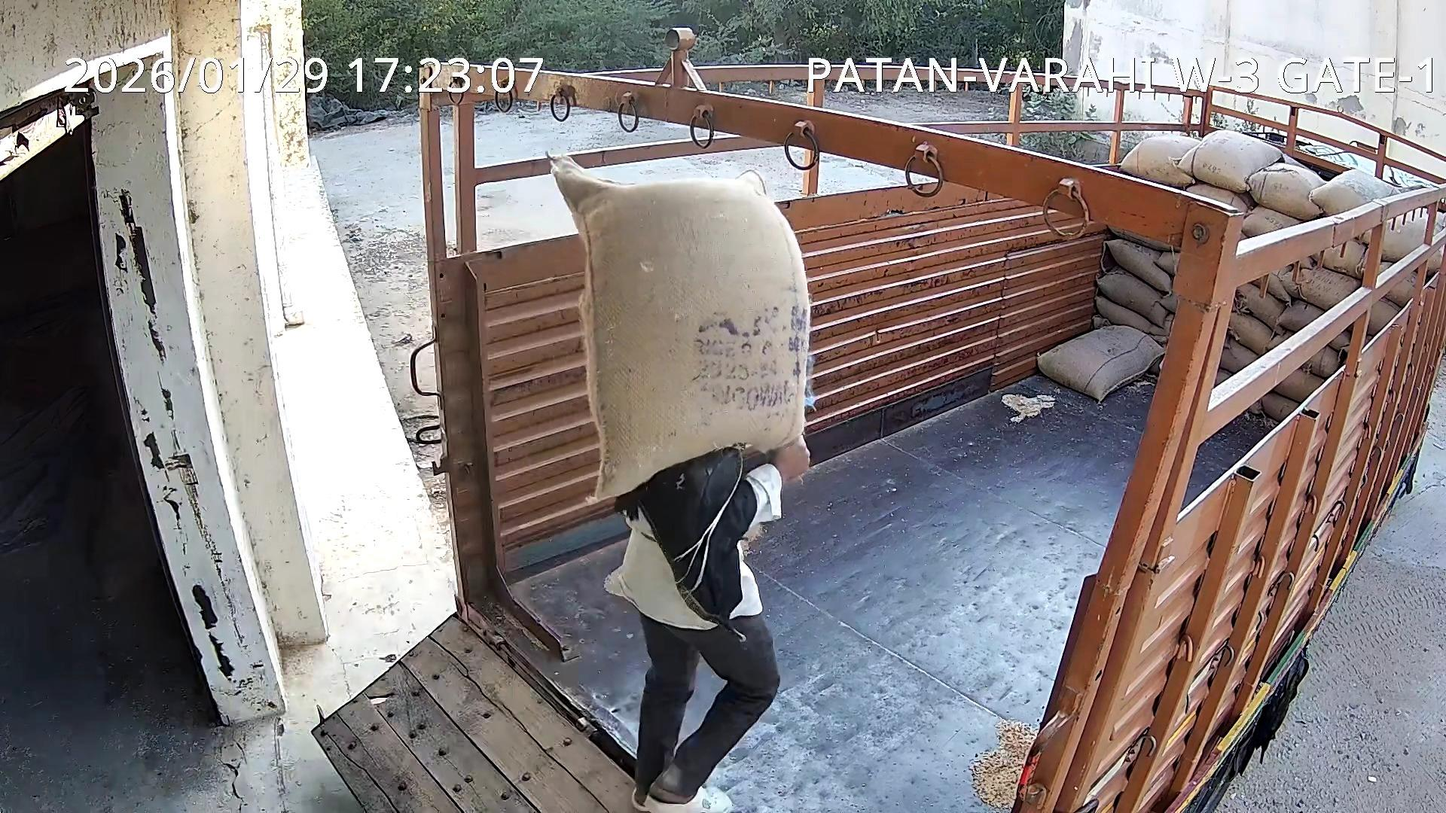Sack: (552, 157, 810, 498)
